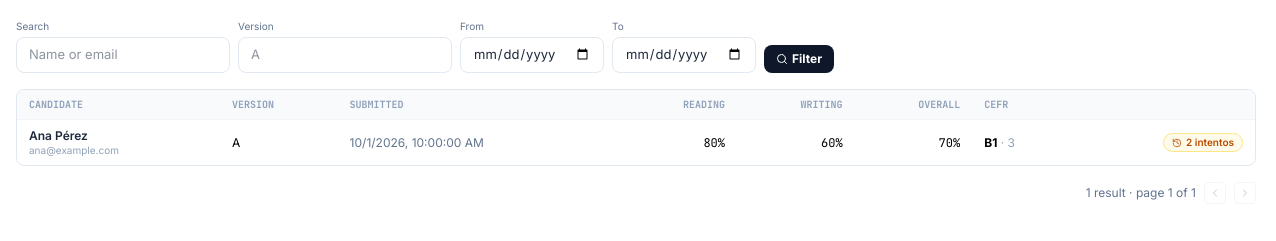
ResultsTab › does not reopen a detail panel closed while its request was pending
Click the text "ana@example.com" at (74, 150), box [29, 144, 119, 156]
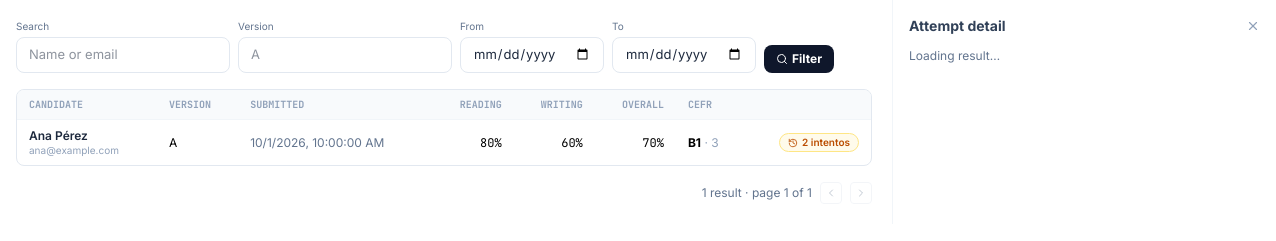
Click the button named "Close detail" at (1253, 26), box [1246, 19, 1260, 33]
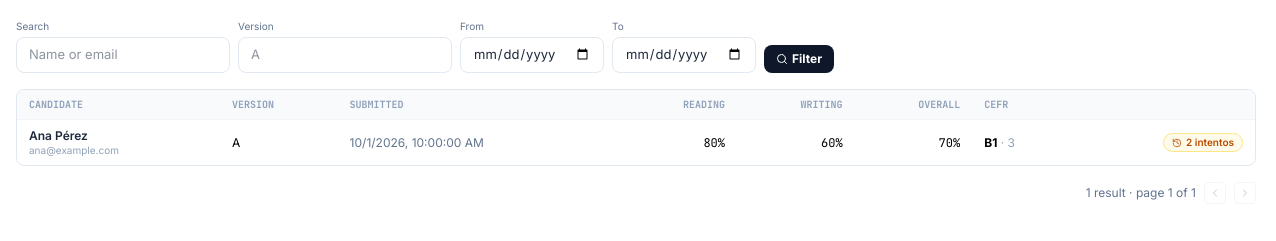
Now the heading labelled "Attempt detail" is gone
